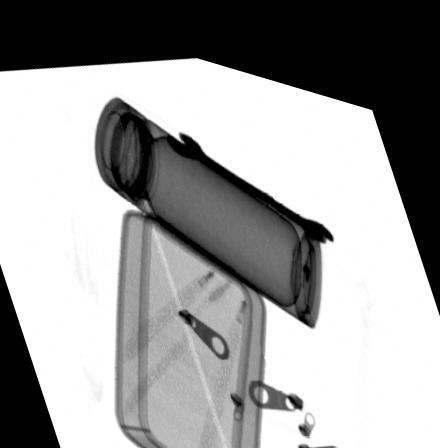Wrench: (164, 119, 336, 225)
